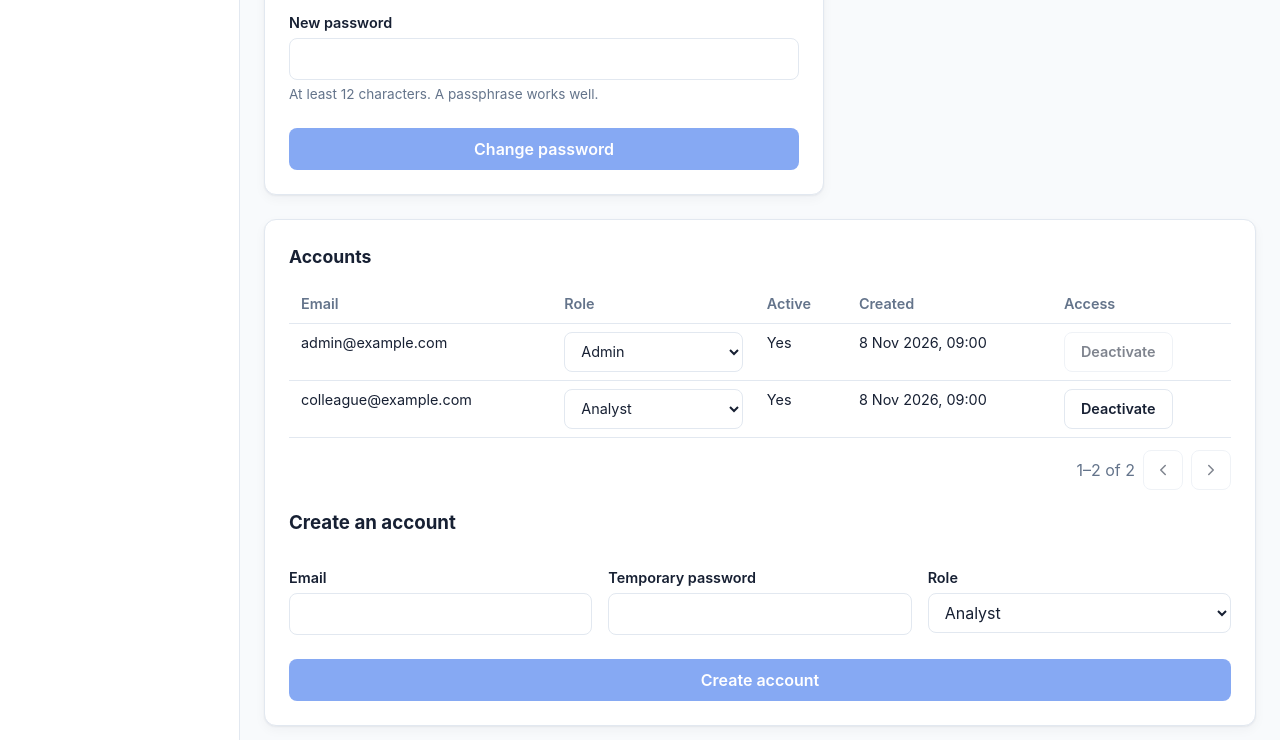
Test: Settings › account management › creates an account once the password is long enough
The width and height of the screenshot is (1280, 740).
(page scrolled)
Type "new@example.com" into the field labelled "Email". click: x=441, y=614
box: [289, 593, 592, 635]
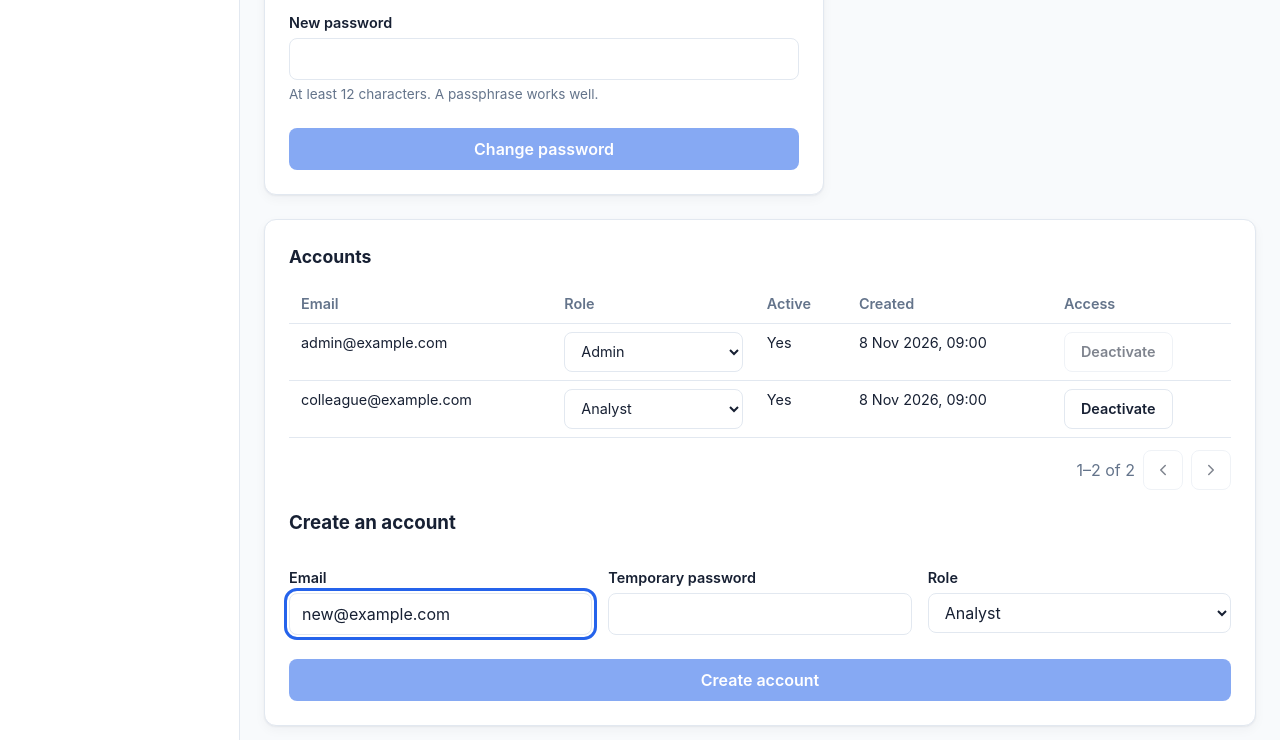
Type "short" into the password field labelled "Temporary password". click: x=760, y=614
box: [608, 593, 912, 635]
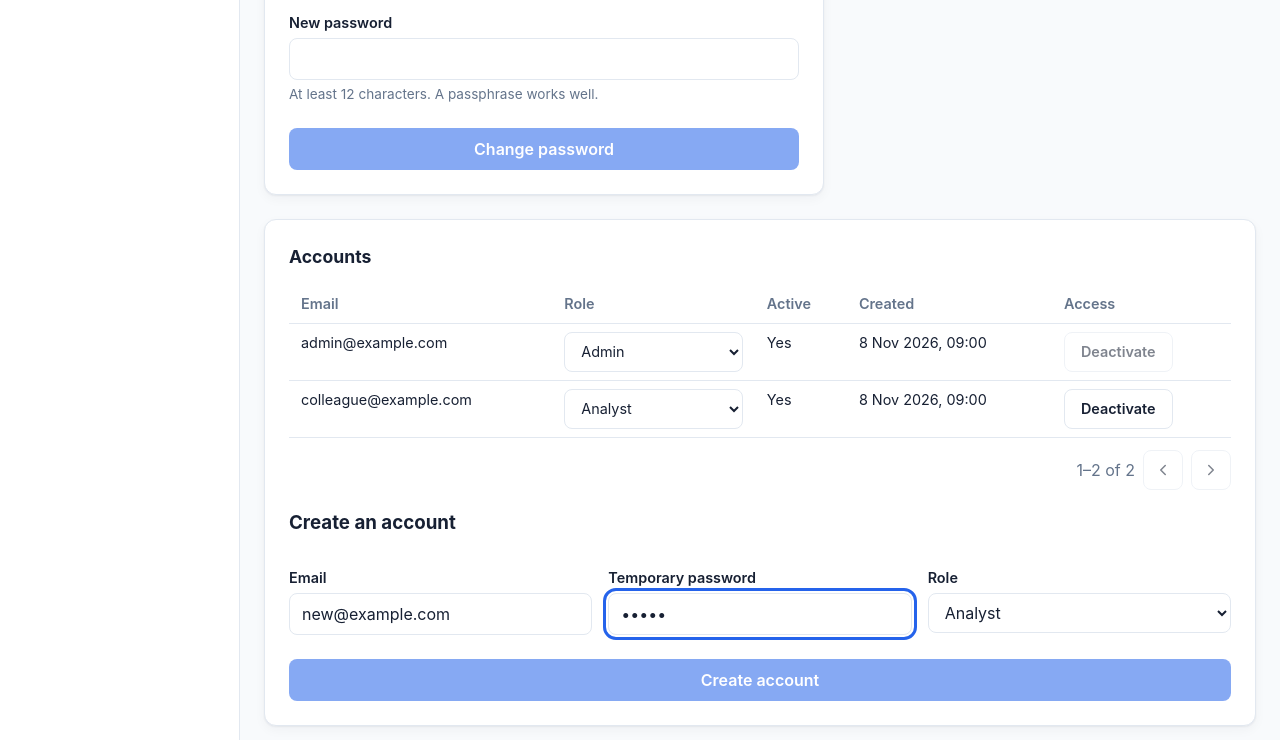
Expected: the button "Create account" is disabled, [289, 659, 1231, 701]
Type " but now long enough" into the password field labelled "Temporary password". click: x=760, y=614
box: [608, 593, 912, 635]
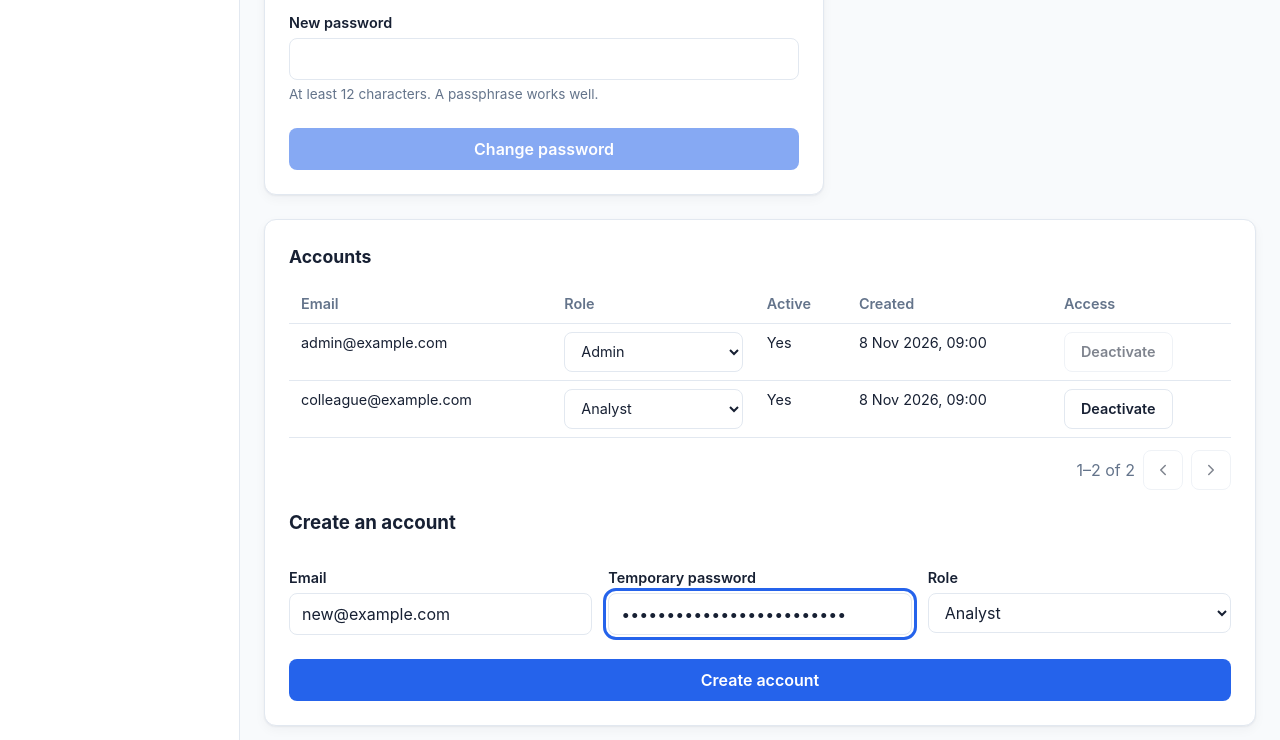
Select "Investigator" in the dropdown labelled "Role". click: x=1079, y=613
box: [928, 593, 1231, 633]
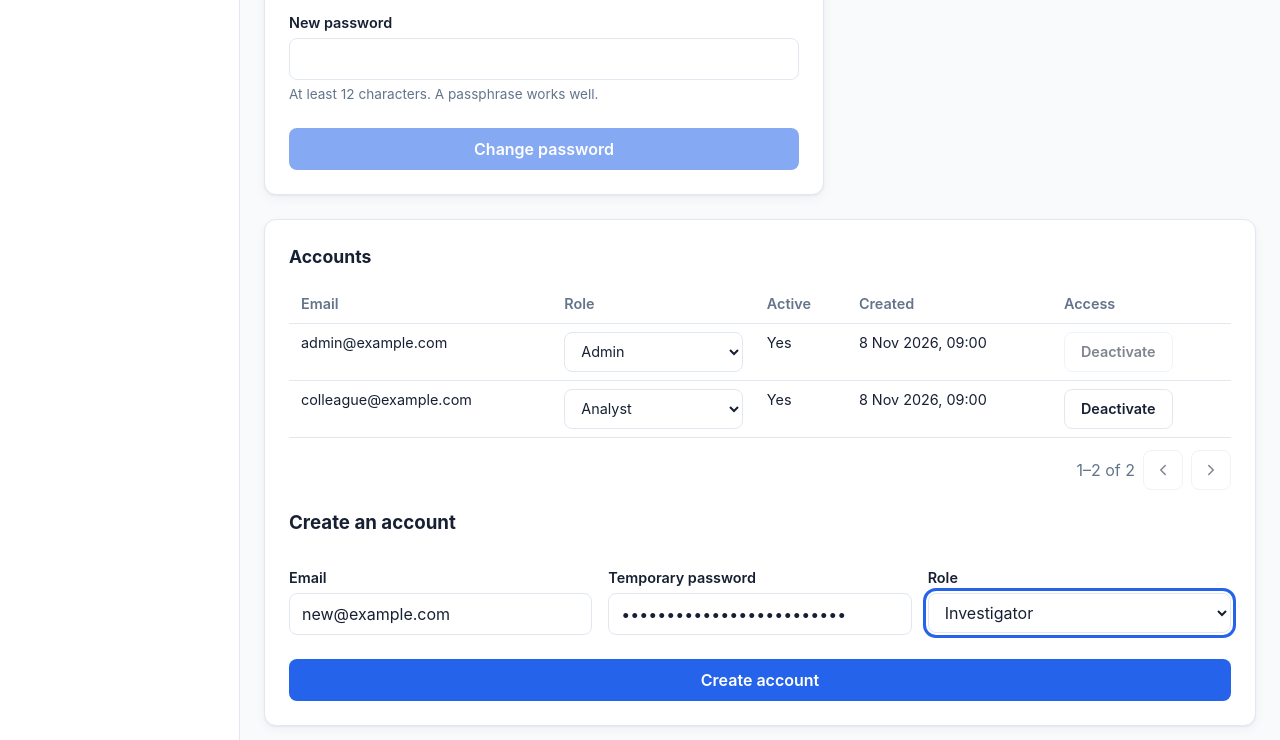
Click the button "Create account". click: x=760, y=680
box: [289, 659, 1231, 701]
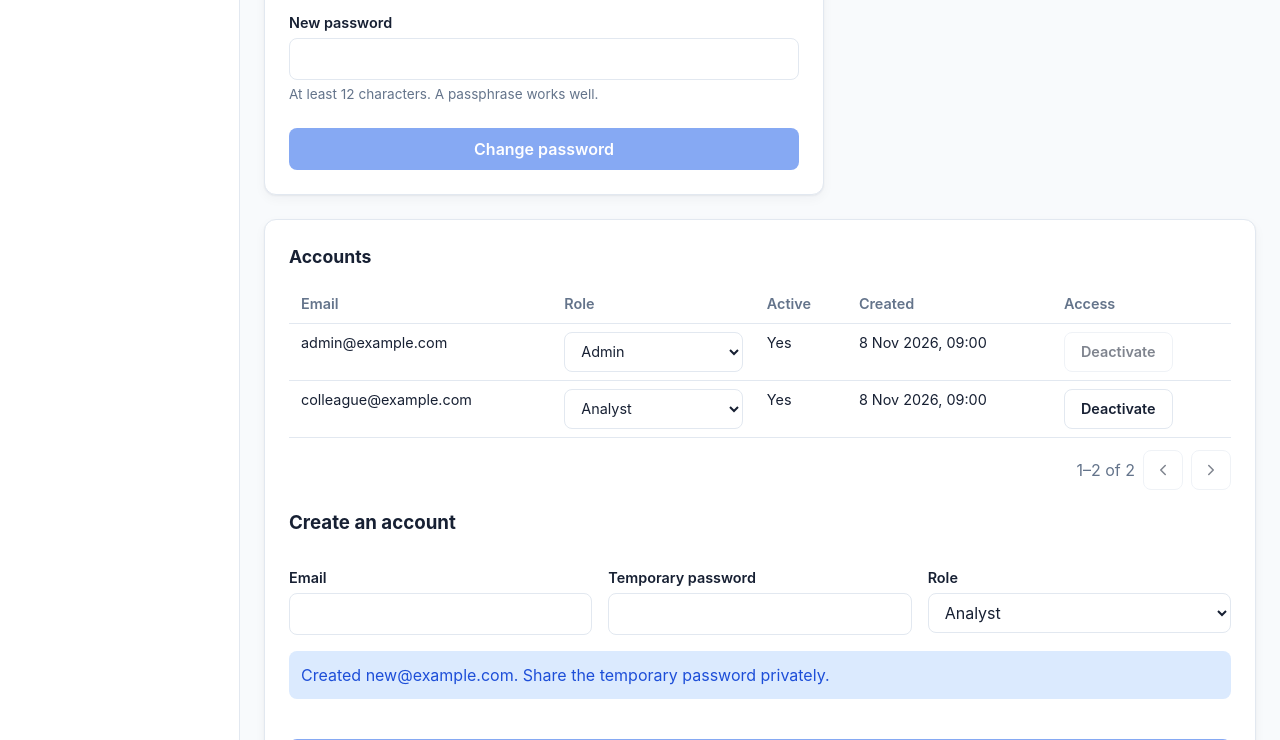
Expected: the text "Created new@example.com. Share the temporary password privately." is shown, [289, 651, 1231, 699]
